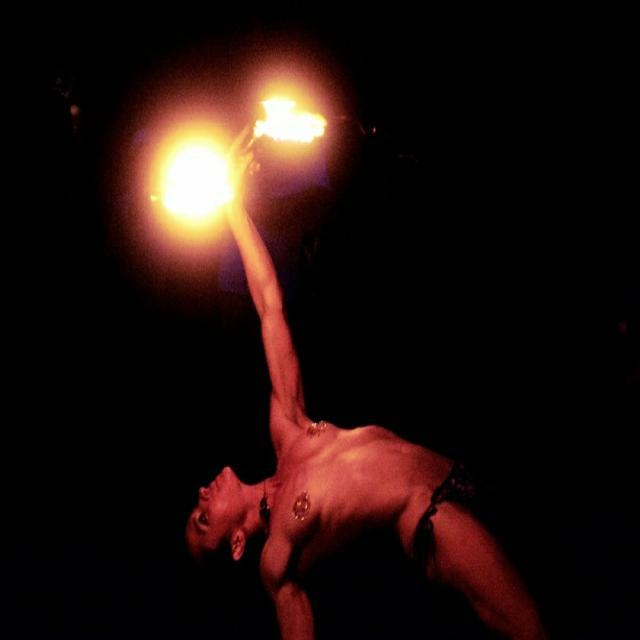Fire: (162, 137, 234, 219), (259, 94, 328, 142)
